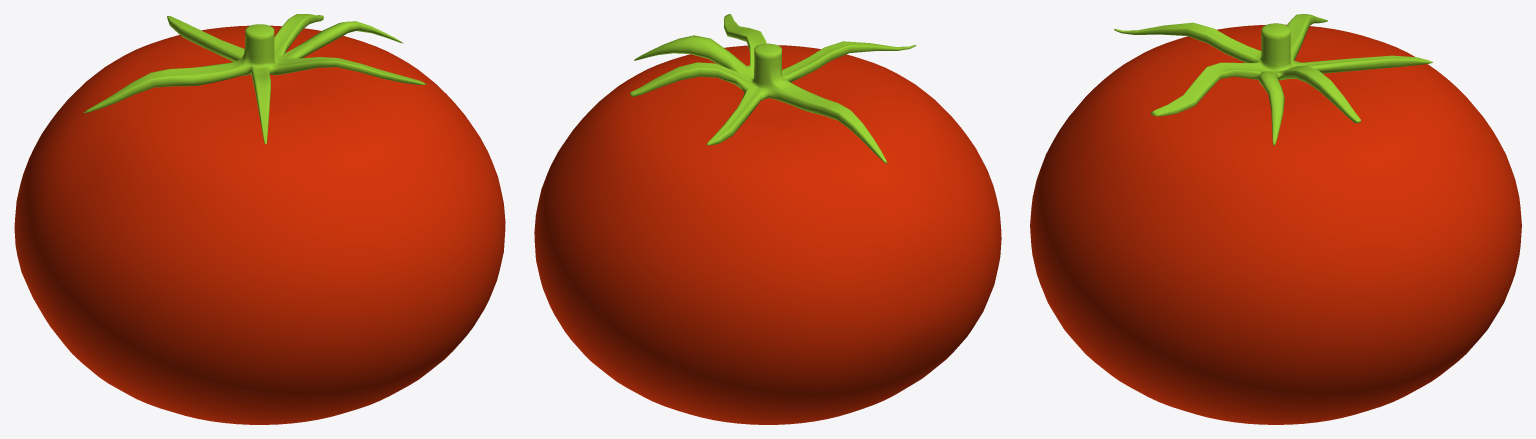
Rendered from tomato.fbx.
The picture shows the model from 3 angles, left to right: view 1: azimuth 30°, elevation 25°; view 2: azimuth 150°, elevation 25°; view 3: azimuth 270°, elevation 25°; orthographic projection. The views are drawn at different scales.
Visible parts, largest first — view 1: Tomato, Cylinder; view 2: Tomato, Cylinder; view 3: Tomato, Cylinder.
Boxes of the visible parts, x1=… form: Tomato: x1=14, y1=25, x2=505, y2=424; Cylinder: x1=83, y1=14, x2=426, y2=144; Tomato: x1=534, y1=45, x2=1001, y2=424; Cylinder: x1=630, y1=14, x2=916, y2=163; Tomato: x1=1030, y1=24, x2=1521, y2=424; Cylinder: x1=1114, y1=14, x2=1432, y2=145.
Size of the model in its own units: 4.45 by 3.55 by 4.45.
